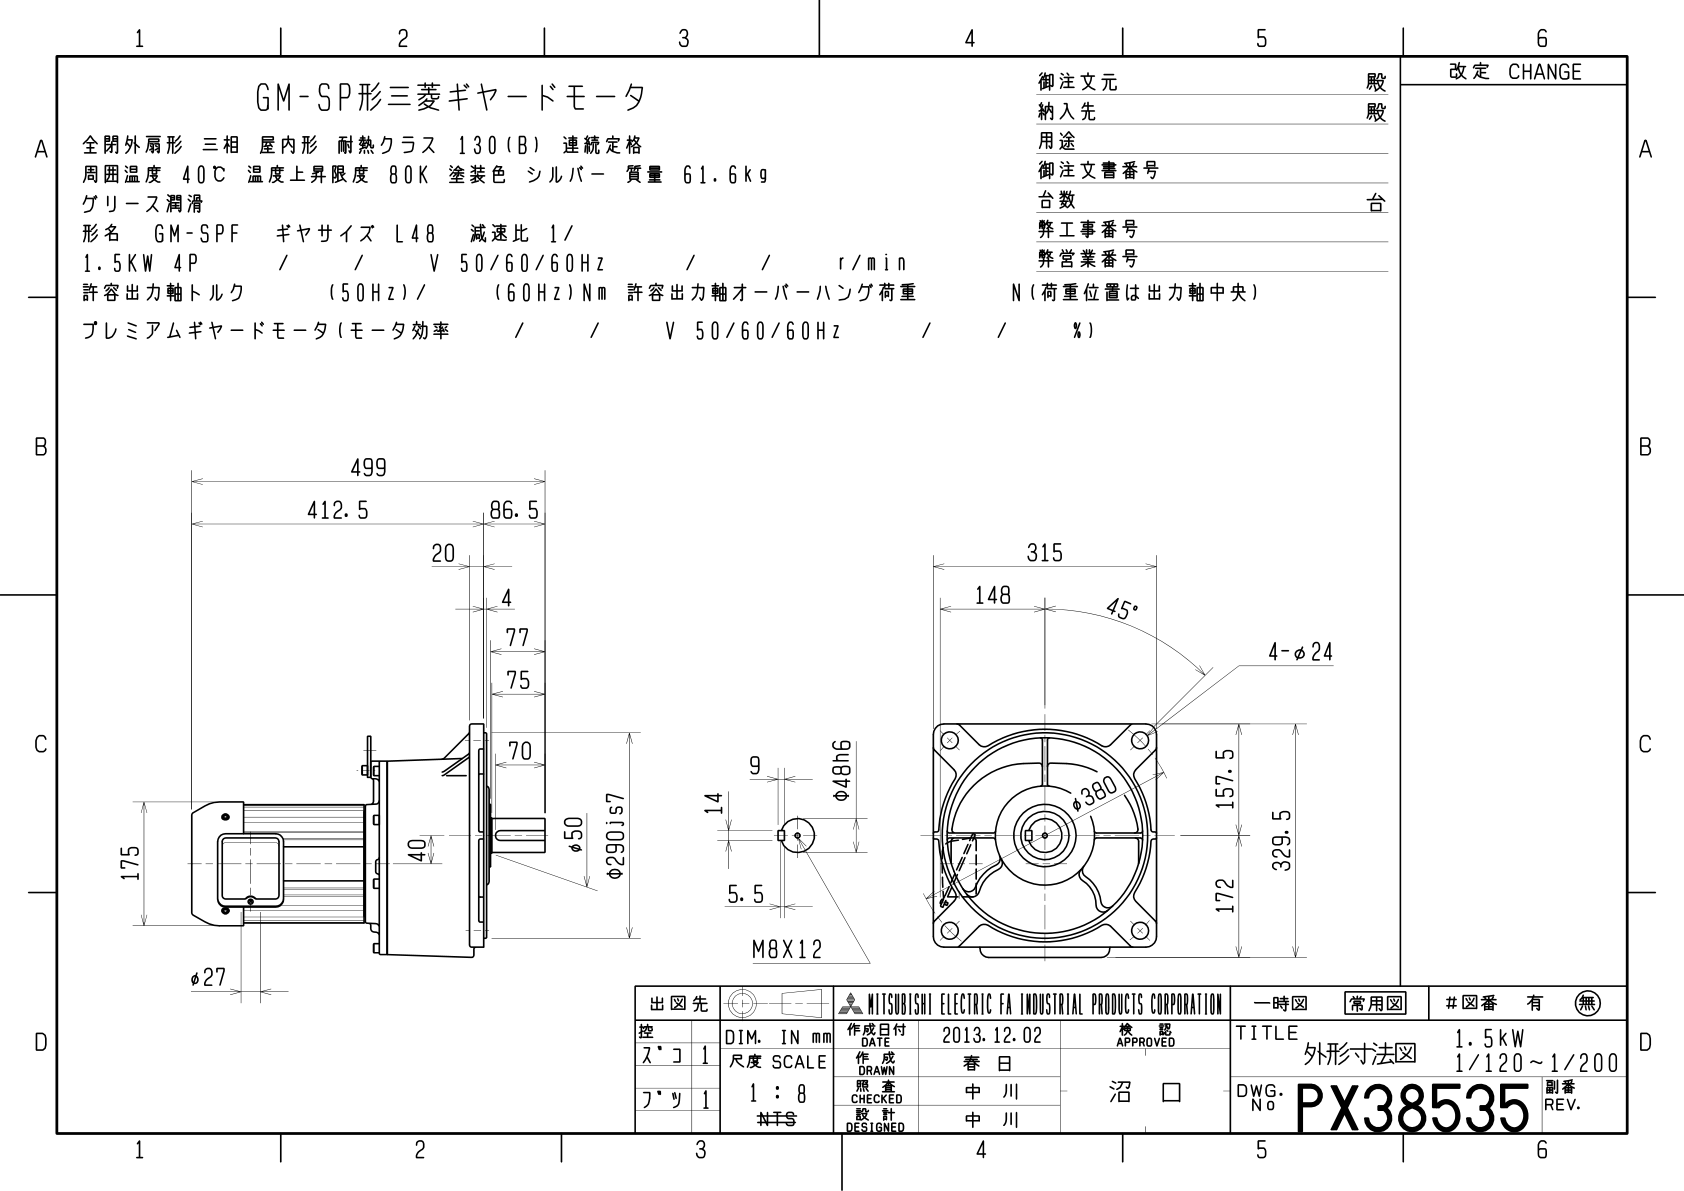GM_SP_屋内＿三相_フランジ: (1, 15, 1669, 1183)
